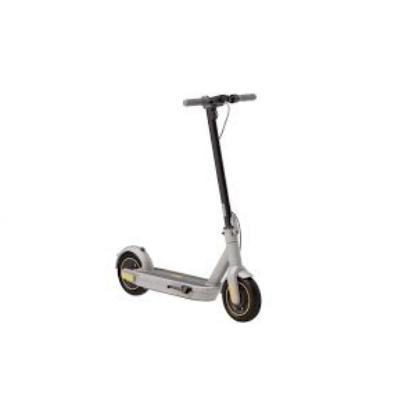bike: (115, 97, 262, 323)
